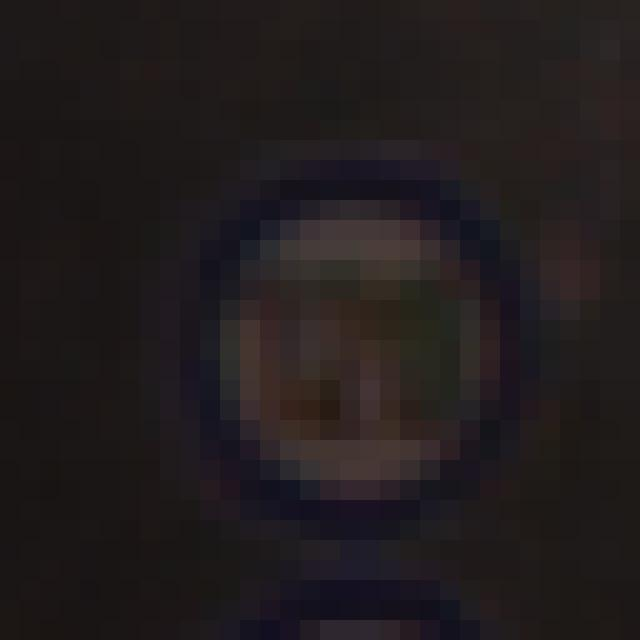SPEED LIMIT 120: (187, 175, 521, 519)
